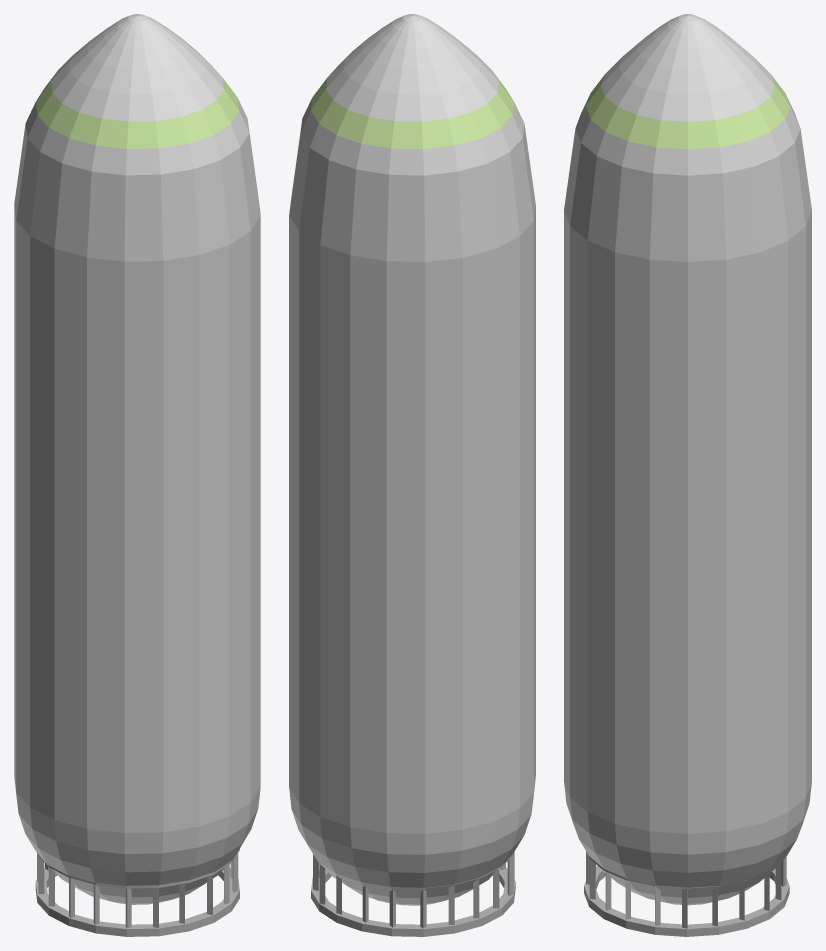
The model's file is roket1_1.fbx.
The picture shows the model from 3 angles, left to right: view 1: azimuth 30°, elevation 25°; view 2: azimuth 150°, elevation 25°; view 3: azimuth 270°, elevation 25°; orthographic projection.
Parts seen in each view (by area): view 1: Null_1; view 2: Null_1; view 3: Null_1.
Part boxes in pixels (x1,y1,x2,y2): Null_1: (14, 14, 260, 936); Null_1: (289, 14, 535, 936); Null_1: (564, 14, 811, 936).
Size of the model in its own units: 272 by 1063 by 272.
